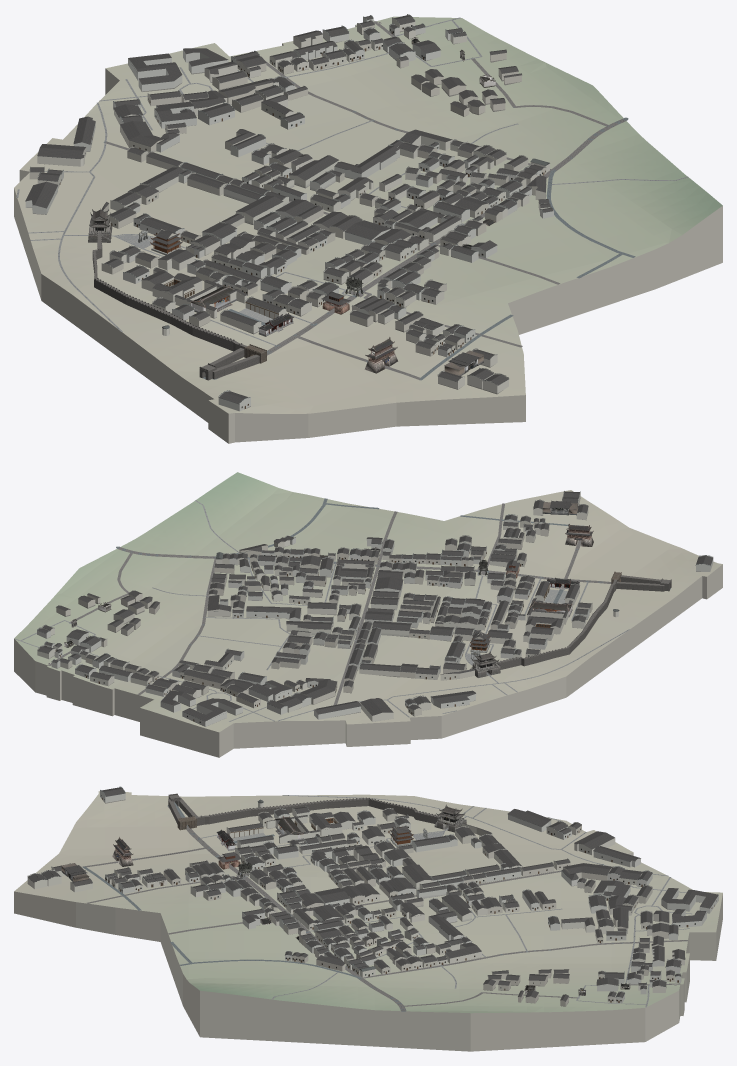
File: city.glb
The picture shows the model from 3 angles, top to bottom: view 1: azimuth 30°, elevation 25°; view 2: azimuth 150°, elevation 25°; view 3: azimuth 270°, elevation 25°; orthographic projection. The views are drawn at different scales.
Parts seen in each view (by area): view 1: Copernicus_DEM_Terrain, Terrain_Base_Skirt, Mapped_West_Wall_983769745, Mapped_Roof_983766389_unnamed, Mapped_Building_Foundation_Skirts, Mapped_Road_983770806_1_中和街, T2_南谯楼, Mapped_Building_983766389_unnamed; view 2: Copernicus_DEM_Terrain, Terrain_Base_Skirt, Mapped_West_Wall_983769745, Mapped_Roof_983766389_unnamed, Mapped_Building_Foundation_Skirts, T2_仁和楼_徽园北入口, T2_南谯楼, Mapped_Road_983770807_1_小北街, Mapped_Building_983766389_unnamed, T2_安徽徽州历史博物馆北入口; view 3: Copernicus_DEM_Terrain, Terrain_Base_Skirt, Mapped_West_Wall_983769745, Mapped_Roof_983766389_unnamed, Mapped_Road_983770515_1_大北街, Mapped_Road_983770806_1_中和街, T2_仁和楼_徽园北入口, Mapped_Roof_983766397_unnamed.
Part boxes in pixels (x1,y1,x2,y2): Copernicus_DEM_Terrain: [14, 16, 722, 413]; Terrain_Base_Skirt: [14, 25, 722, 443]; Mapped_West_Wall_983769745: [92, 232, 244, 351]; Mapped_Roof_983766389_unnamed: [128, 53, 182, 84]; Mapped_Building_Foundation_Skirts: [27, 30, 539, 408]; Mapped_Road_983770806_1_中和街: [359, 119, 626, 291]; T2_南谯楼: [364, 337, 397, 373]; Mapped_Building_983766389_unnamed: [128, 58, 182, 91]; Copernicus_DEM_Terrain: [14, 472, 722, 732]; Terrain_Base_Skirt: [14, 564, 722, 757]; Mapped_West_Wall_983769745: [494, 580, 616, 669]; Mapped_Roof_983766389_unnamed: [182, 698, 242, 721]; Mapped_Building_Foundation_Skirts: [46, 534, 700, 726]; T2_仁和楼_徽园北入口: [470, 651, 500, 677]; T2_南谯楼: [565, 524, 593, 546]; Mapped_Road_983770807_1_小北街: [333, 565, 379, 705]; Mapped_Building_983766389_unnamed: [182, 703, 242, 726]; T2_安徽徽州历史博物馆北入口: [542, 500, 578, 515]; Copernicus_DEM_Terrain: [14, 791, 722, 1013]; Terrain_Base_Skirt: [14, 852, 722, 1051]; Mapped_West_Wall_983769745: [198, 798, 441, 825]; Mapped_Roof_983766389_unnamed: [661, 888, 718, 908]; Mapped_Road_983770515_1_大北街: [361, 940, 687, 978]; Mapped_Road_983770806_1_中和街: [243, 877, 406, 1010]; T2_仁和楼_徽园北入口: [434, 804, 466, 832]; Mapped_Roof_983766397_unnamed: [563, 863, 612, 875].
Bounding box in the file's own units: 495 × 45.62 × 629.
92 materials, 30 textured.
